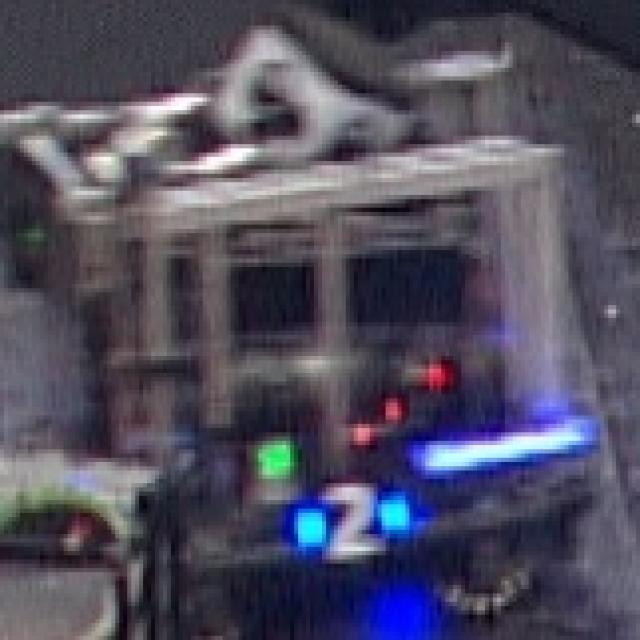B2: (290, 474, 410, 564)
